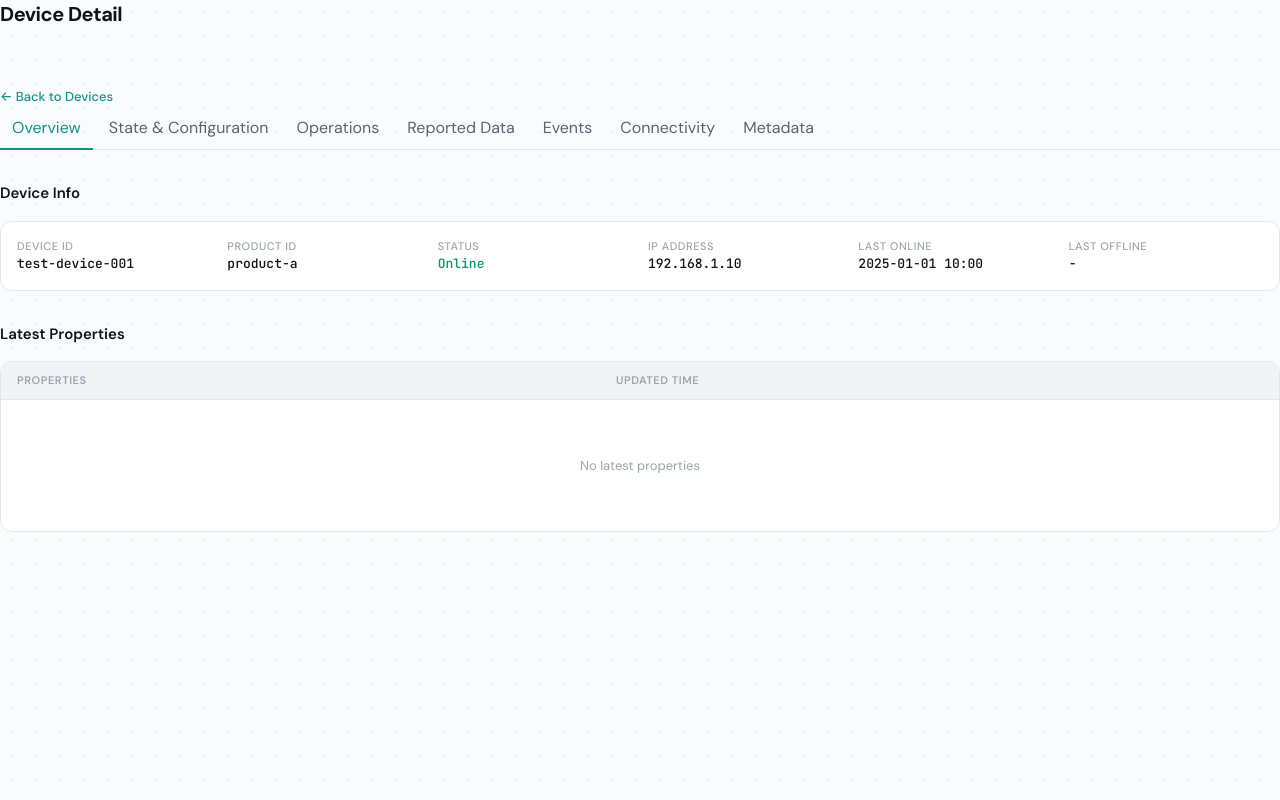
Test case: Factory metadata section › keeps component-level change log button independent of device-level drawer
Click the tab "Metadata". click: (779, 129)
box: [731, 108, 826, 150]
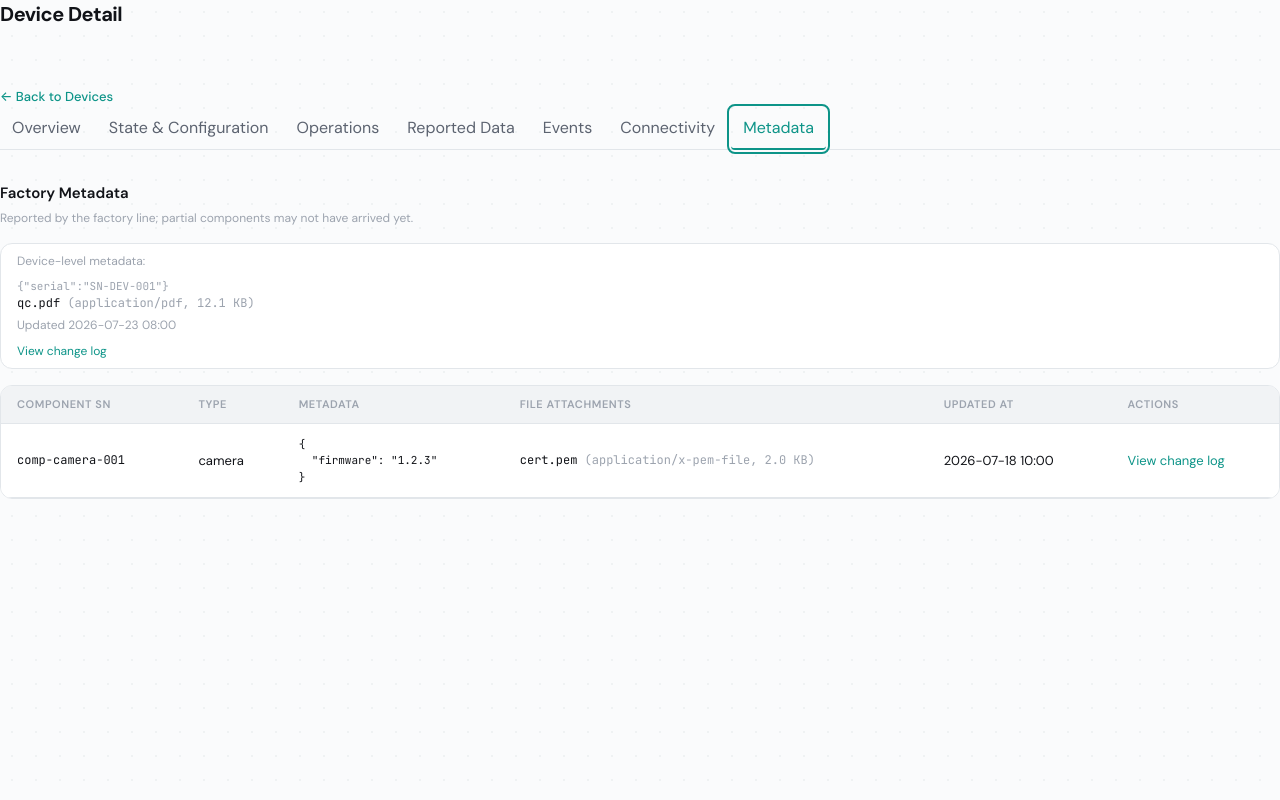
Click the button with test id "factory-component-changes-btn-comp-camera-001". click: (1176, 460)
box: [1128, 450, 1225, 470]
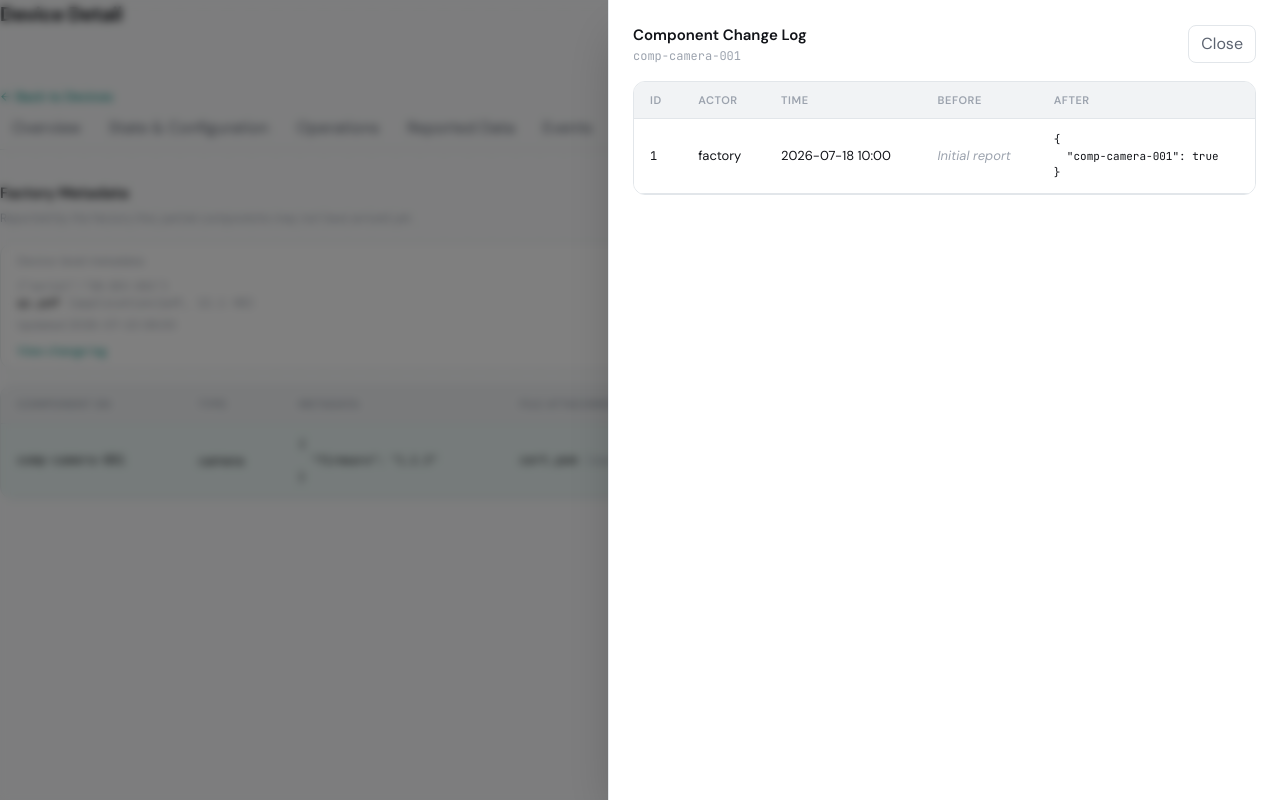
Expected: the element with test id "component-change-log-drawer" shows "comp-camera-001", [633, 48, 741, 64]
Click the button with test id "component-change-log-close". click: (1222, 44)
box: [1188, 25, 1256, 63]
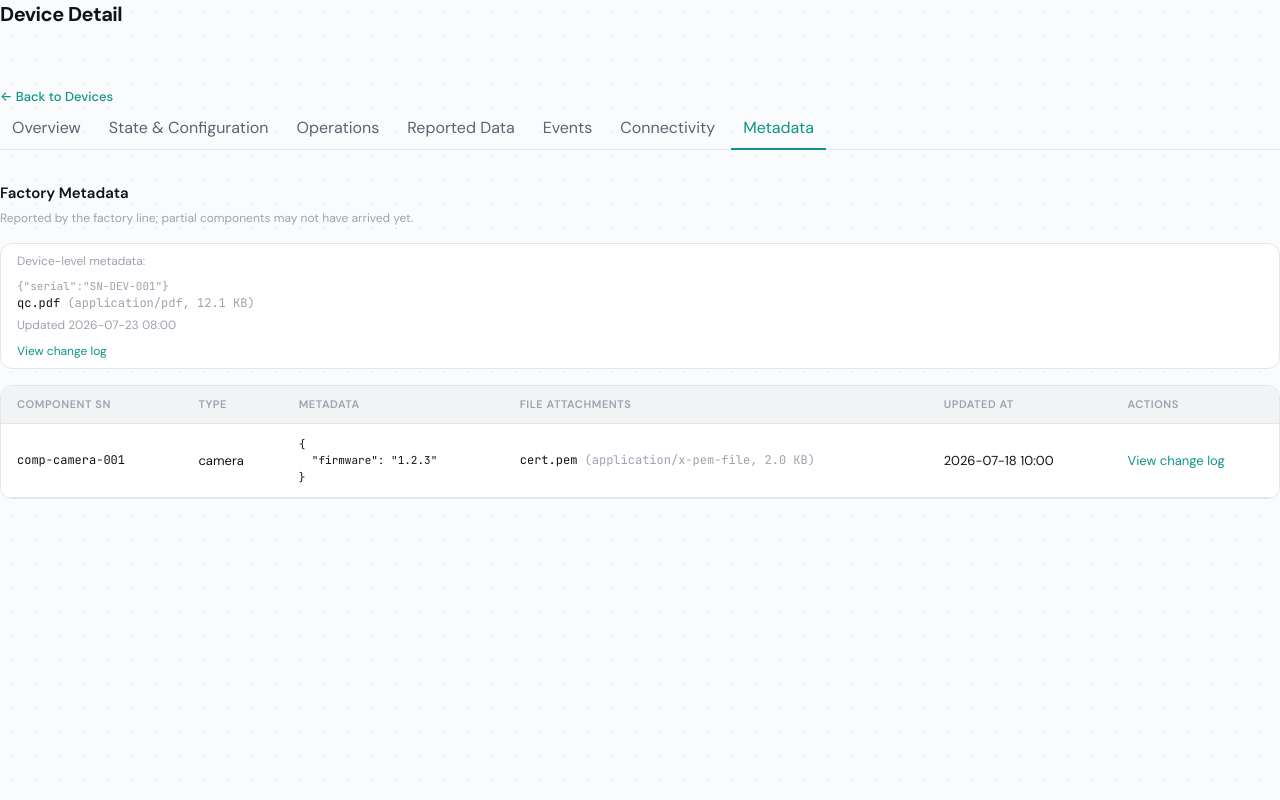
Expected: the element with test id "component-change-log-drawer" is gone
Click the button with test id "factory-device-changes-btn". click: (62, 351)
box: [17, 342, 107, 360]
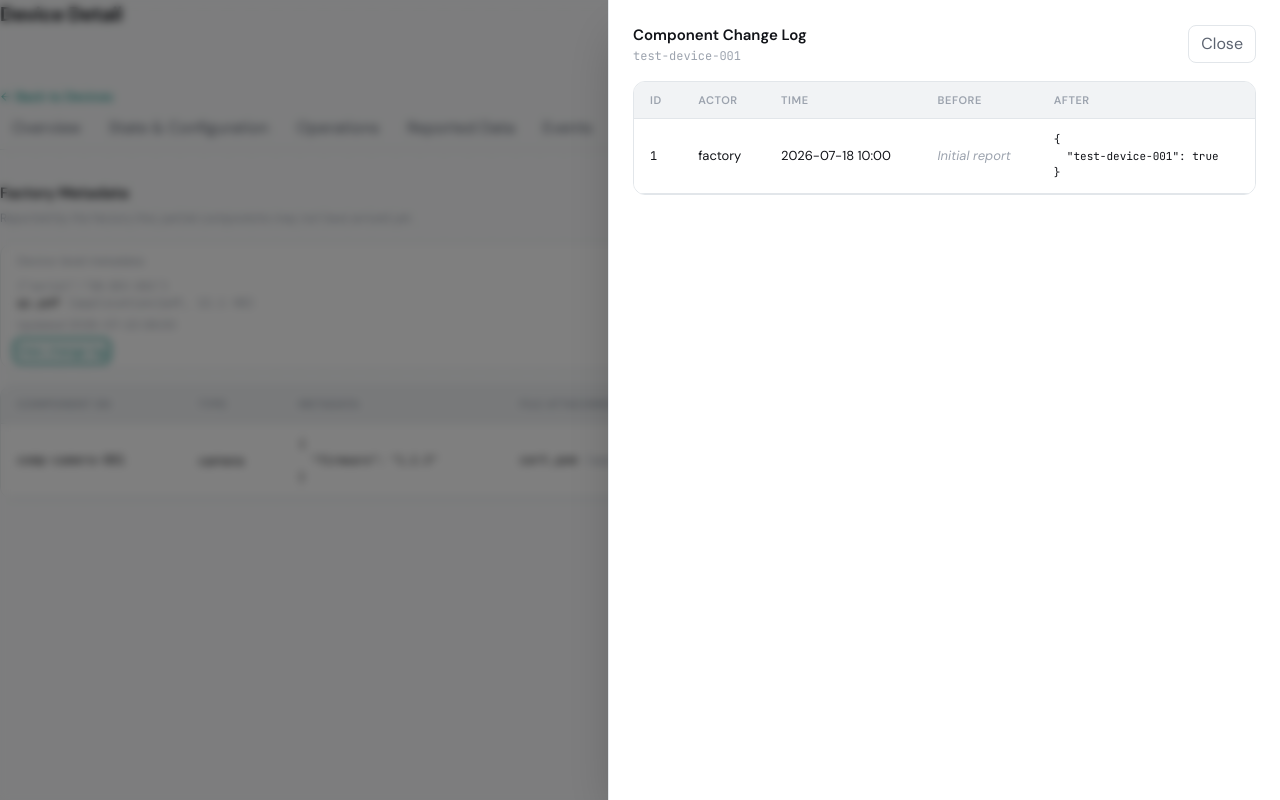
Expected: the element with test id "component-change-log-drawer" shows "test-device-001", [633, 48, 741, 64]
